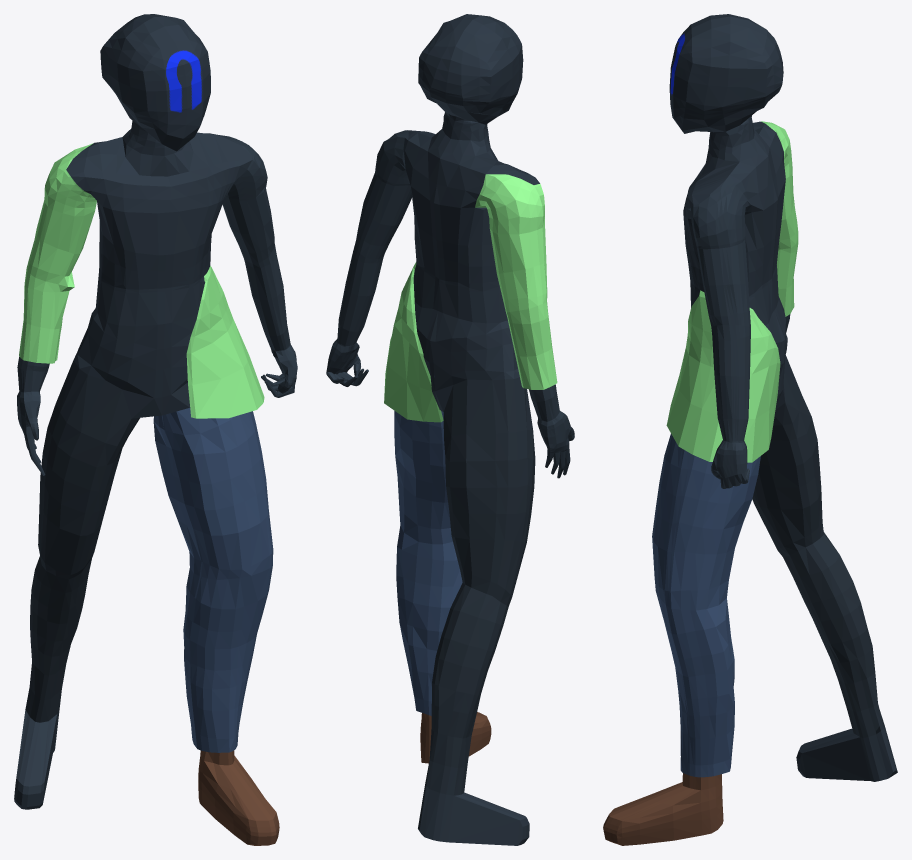
The model's file is Mar_Recover_000020.obj.
3 views of the same model, side by side, from view 1: azimuth 30°, elevation 25°; view 2: azimuth 150°, elevation 25°; view 3: azimuth 270°, elevation 25° (orthographic). The views are drawn at different scales.
Parts seen in each view (by area): view 1: Cube.000_Cube.001; view 2: Cube.000_Cube.001; view 3: Cube.000_Cube.001.
Part boxes in pixels (bbox=[...]): Cube.000_Cube.001: bbox=[14, 14, 297, 845]; Cube.000_Cube.001: bbox=[326, 14, 574, 845]; Cube.000_Cube.001: bbox=[603, 14, 897, 845].
Size of the model in its own units: 1.34 by 3.95 by 1.32.
